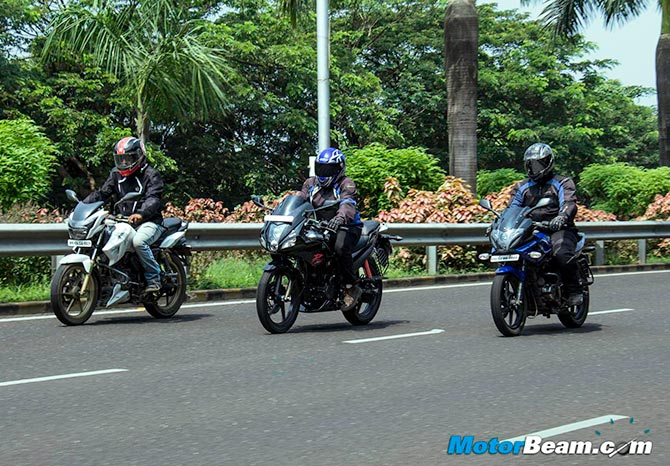helmet: (109, 137, 147, 175), (311, 147, 349, 185), (519, 141, 557, 179)
